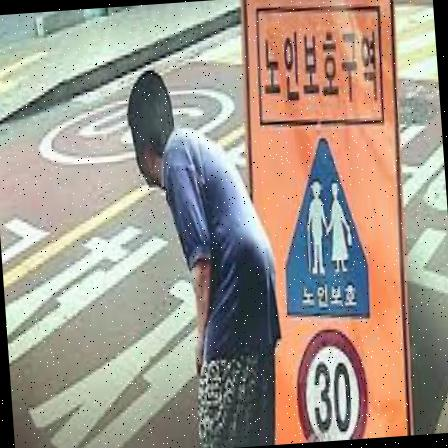silver: (123, 62, 287, 447)
